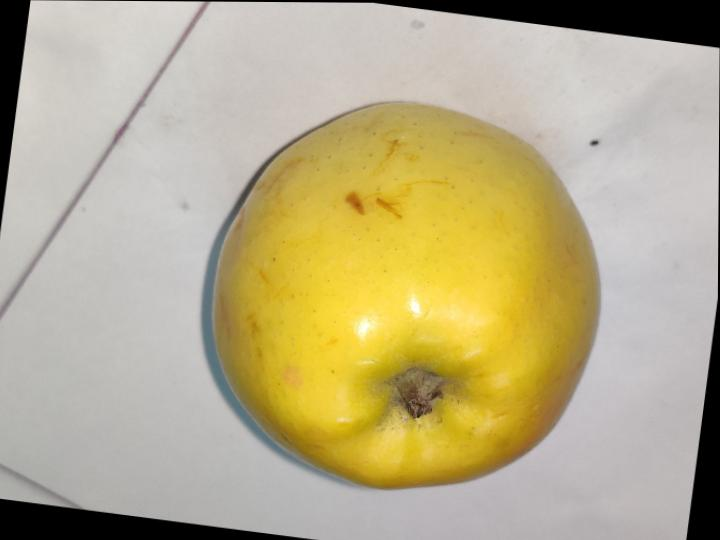apple: (212, 103, 600, 488)
surface_damage: (376, 198, 402, 219), (345, 192, 365, 215)
